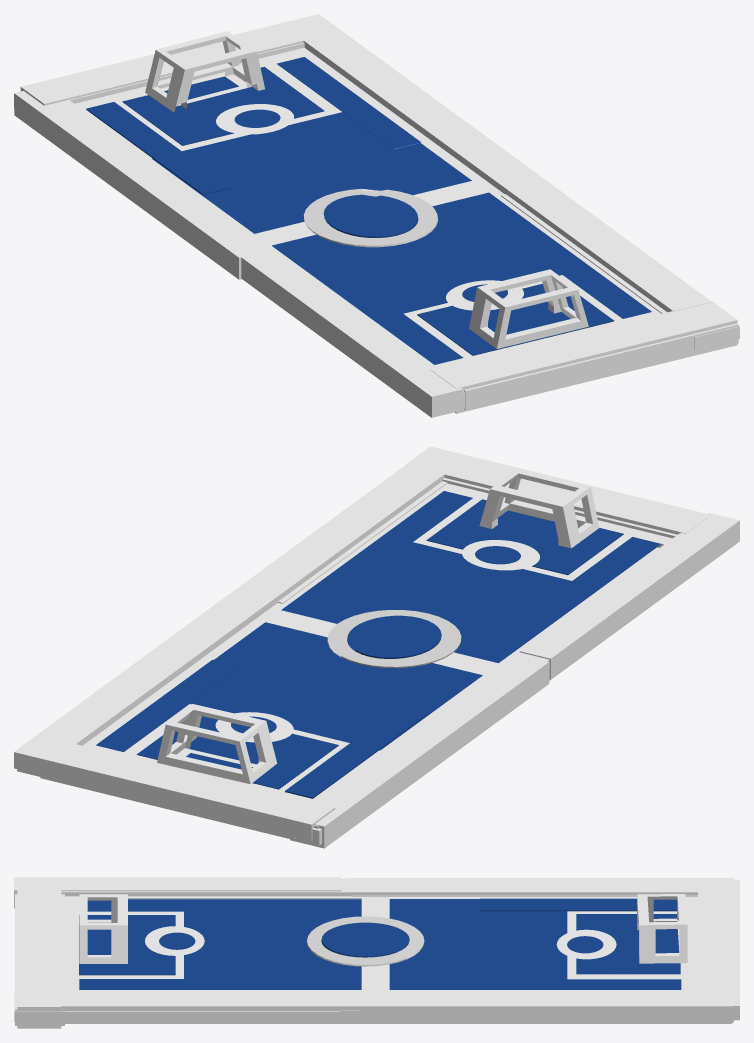
The model's file is stadium2.glb.
The picture shows the model from 3 angles, top to bottom: view 1: azimuth 30°, elevation 25°; view 2: azimuth 150°, elevation 25°; view 3: azimuth 270°, elevation 25°; orthographic projection. The views are drawn at different scales.
Visible parts, largest first — view 1: Cube, วงกลม.003, วงกลม, วงกลม.001, วงกลม.004, วงกลม.002; view 2: Cube, วงกลม.003, วงกลม, วงกลม.004, วงกลม.001, วงกลม.005; view 3: Cube, วงกลม.003, วงกลม, วงกลม.001, วงกลม.004, วงกลม.002, วงกลม.005.
Part boxes in pixels (x1,y1,x2,y2): Cube: [14, 14, 739, 417]; วงกลม.003: [323, 194, 418, 237]; วงกลม: [303, 188, 438, 247]; วงกลม.001: [216, 104, 293, 134]; วงกลม.004: [446, 280, 523, 310]; วงกลม.002: [234, 109, 280, 127]; Cube: [14, 446, 739, 848]; วงกลม.003: [347, 615, 441, 658]; วงกลม: [327, 610, 461, 668]; วงกลม.004: [462, 540, 539, 570]; วงกลม.001: [215, 712, 293, 742]; วงกลม.005: [475, 546, 520, 564]; Cube: [14, 877, 739, 1028]; วงกลม.003: [321, 922, 409, 957]; วงกลม: [306, 916, 424, 966]; วงกลม.001: [556, 929, 616, 959]; วงกลม.004: [145, 926, 204, 955]; วงกลม.002: [567, 936, 603, 953]; วงกลม.005: [159, 932, 195, 949].
Bounding box in the file's own units: 3.78 × 0.7068 × 8.89.
